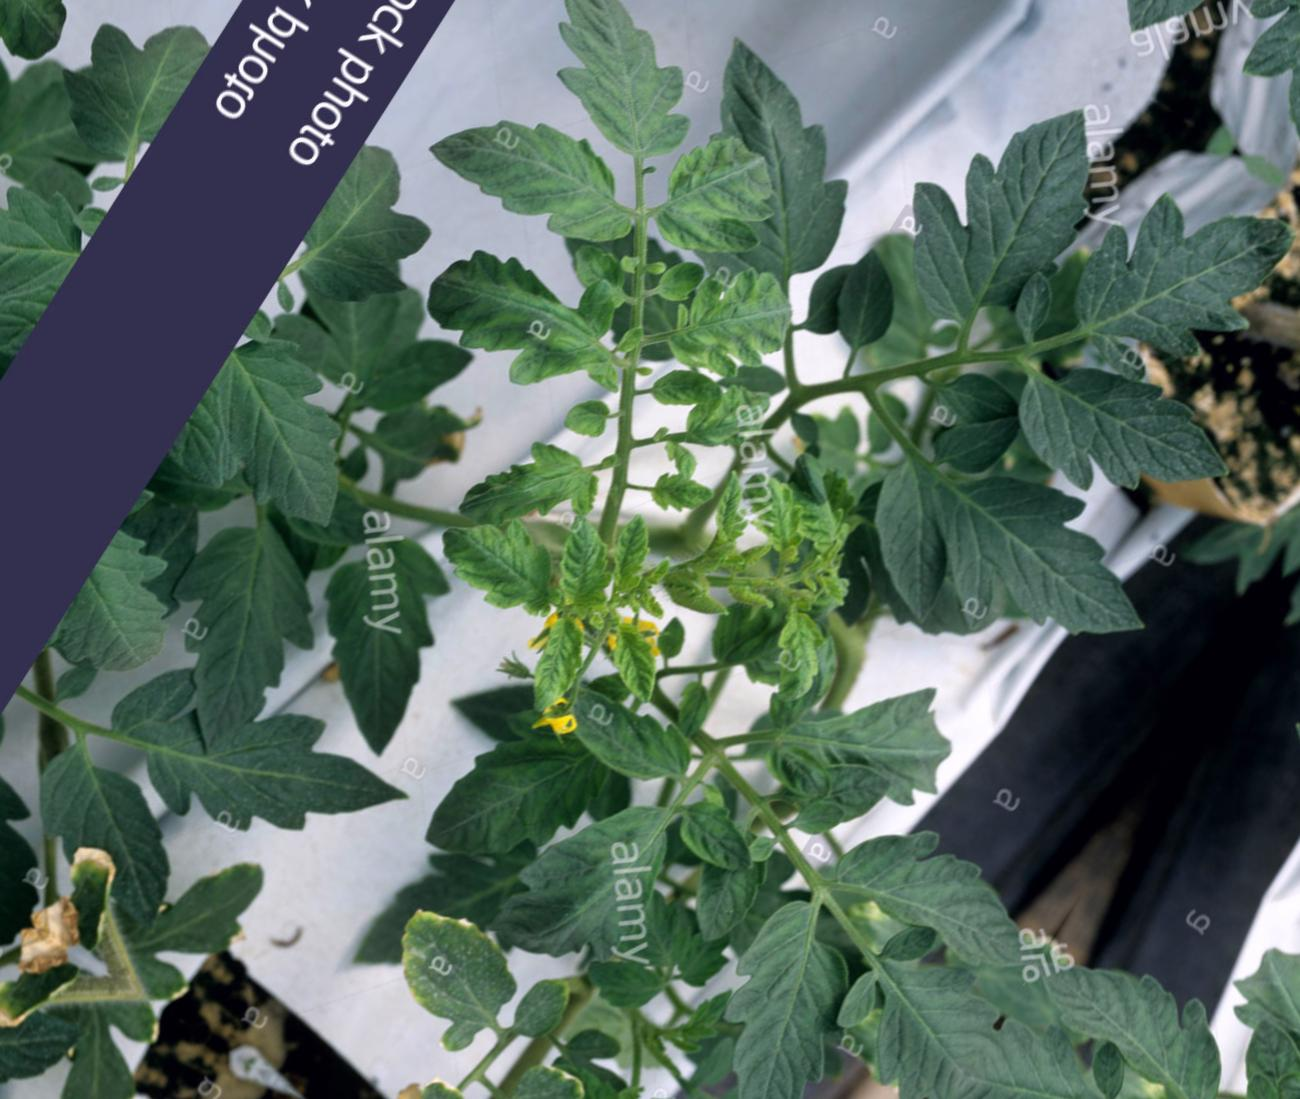Tomato leaf yellow virus: (419, 492, 582, 642), (504, 591, 619, 729), (516, 506, 636, 636)
